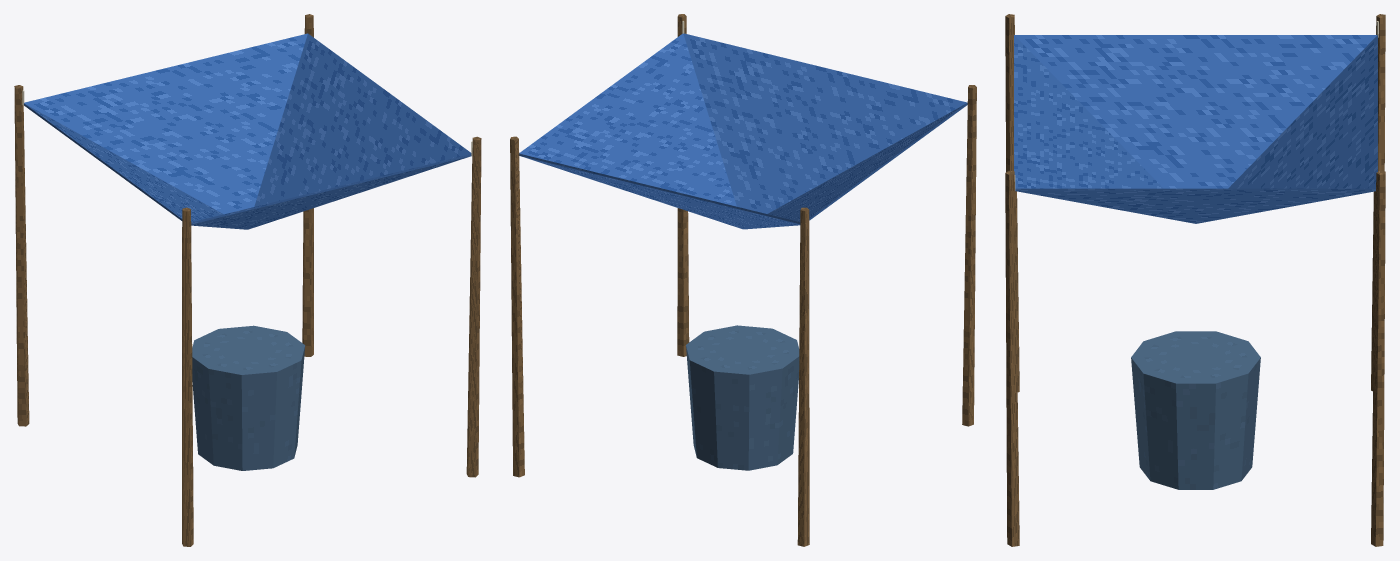
The model's file is tr_raincatcher.glb.
The picture shows the model from 3 angles, left to right: view 1: azimuth 30°, elevation 25°; view 2: azimuth 150°, elevation 25°; view 3: azimuth 270°, elevation 25°; orthographic projection. The views are drawn at different scales.
Parts seen in each view (by area): view 1: block_tarp (×4), block_bucket, block_stick (×4); view 2: block_tarp (×4), block_bucket, block_stick (×4); view 3: block_tarp (×4), block_bucket, block_stick (×4).
Boxes of the visible parts, x1,y1,x2,y2 form: block_tarp (×4): (24, 33, 471, 229); block_bucket: (192, 325, 305, 470); block_stick (×4): (14, 14, 481, 546); block_tarp (×4): (519, 33, 967, 229); block_bucket: (686, 325, 799, 470); block_stick (×4): (510, 14, 976, 546); block_tarp (×4): (1014, 35, 1377, 223); block_bucket: (1131, 331, 1260, 489); block_stick (×4): (1005, 14, 1385, 546).
Size of the model in its own units: 0.8796 by 0.9503 by 0.8785.
1 material, 1 textured.
